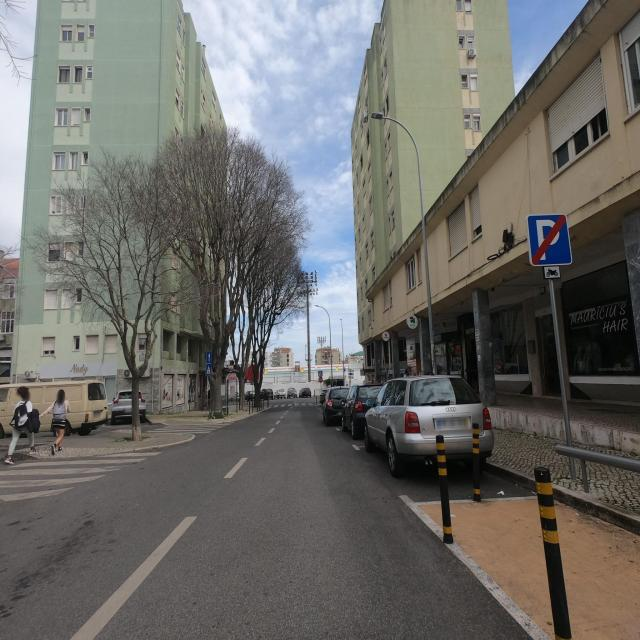forb_stopping: (528, 213, 572, 266)
